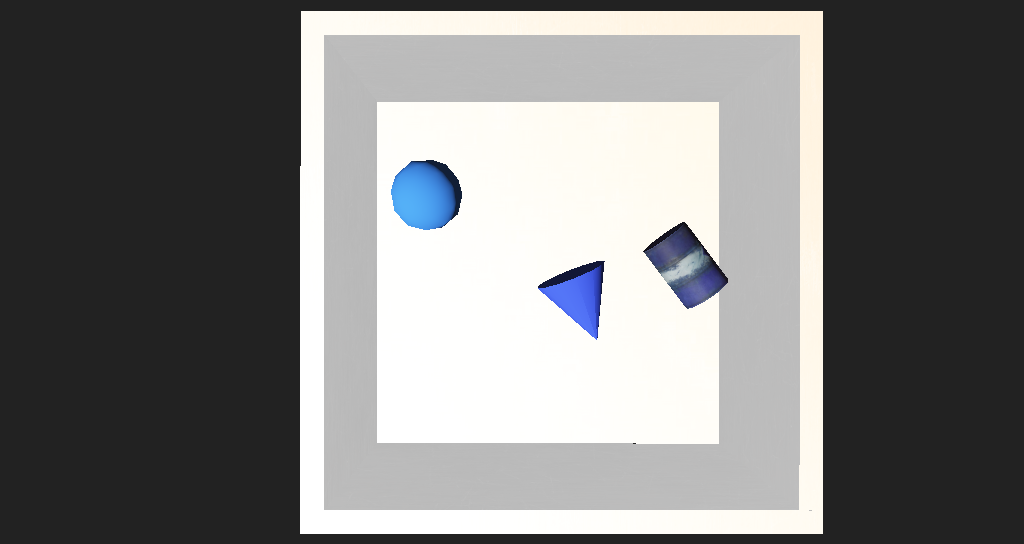cone: (586, 234, 667, 291)
cylinder: (499, 258, 579, 324)
sphere: (364, 196, 431, 243)
